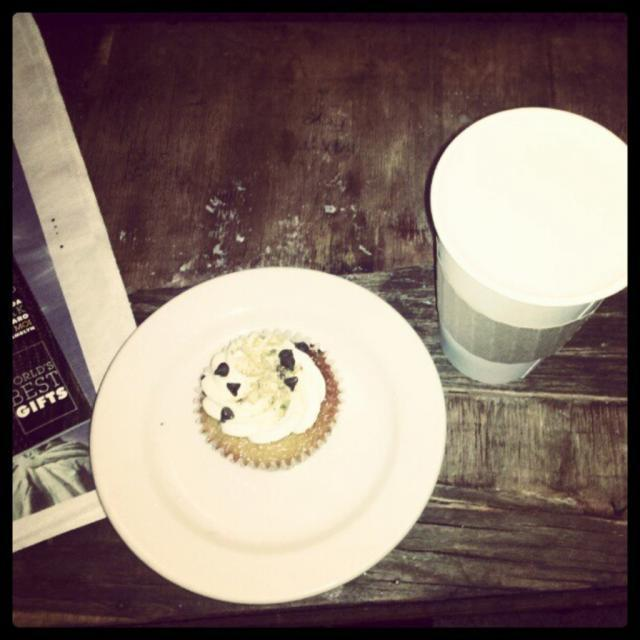Muffin: (209, 328, 341, 472)
